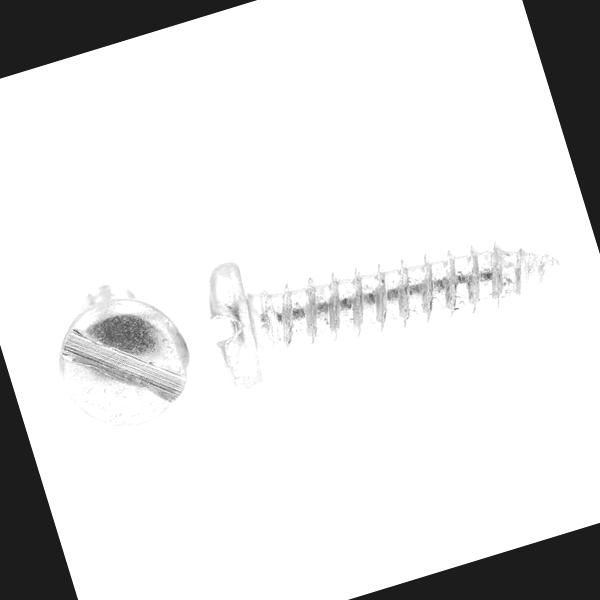slotted: (46, 280, 206, 445)
